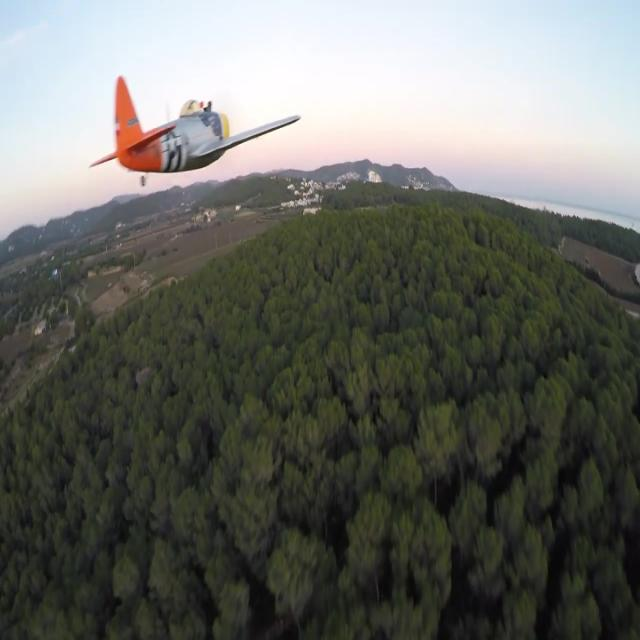iha: (88, 107, 302, 157)
